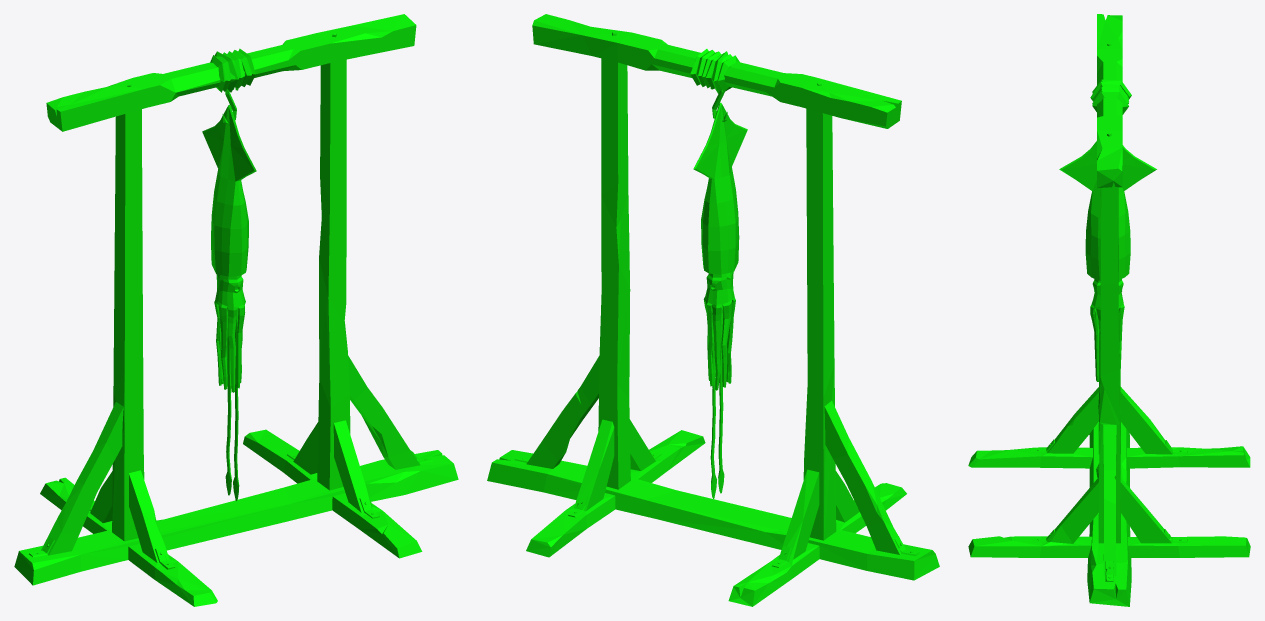
Rendered from SM_Squid_Hanging.fbx.
3 views of the same model, side by side, from view 1: azimuth 30°, elevation 25°; view 2: azimuth 150°, elevation 25°; view 3: azimuth 270°, elevation 25° (orthographic). The views are drawn at different scales.
Visible parts, largest first — view 1: squid-hanging; view 2: squid-hanging; view 3: squid-hanging.
Boxes of the visible parts, bbox=[...] form: squid-hanging: bbox=[14, 14, 458, 606]; squid-hanging: bbox=[487, 14, 939, 606]; squid-hanging: bbox=[968, 14, 1250, 606].
Size of the model in its own units: 4.33 by 4.56 by 2.73.
